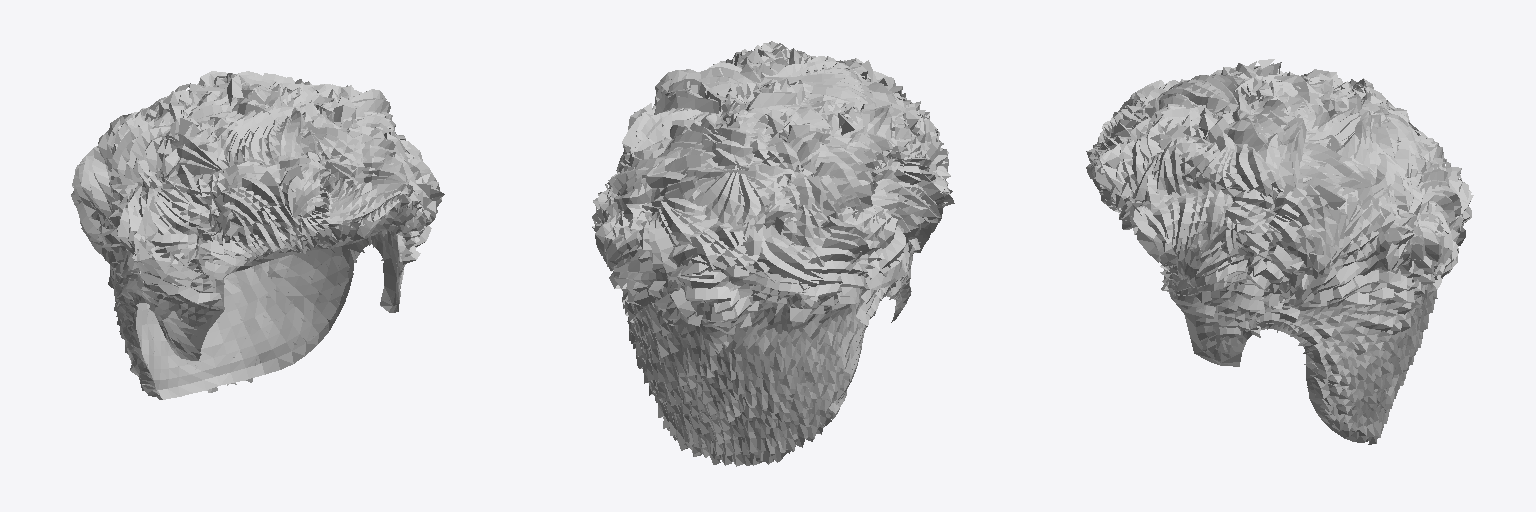
Rendered from Hairstyle 28.obj.
3 views of the same model, side by side, from view 1: azimuth 30°, elevation 25°; view 2: azimuth 150°, elevation 25°; view 3: azimuth 270°, elevation 25° (orthographic).
Visible parts, largest first — view 1: Hairstyle_28; view 2: Hairstyle_28; view 3: Hairstyle_28.
Boxes of the visible parts, <box> form: Hairstyle_28: <box>71,71,444,399</box>; Hairstyle_28: <box>592,41,954,466</box>; Hairstyle_28: <box>1086,59,1473,444</box>.
Size of the model in its own units: 21.5 by 24.75 by 24.92.